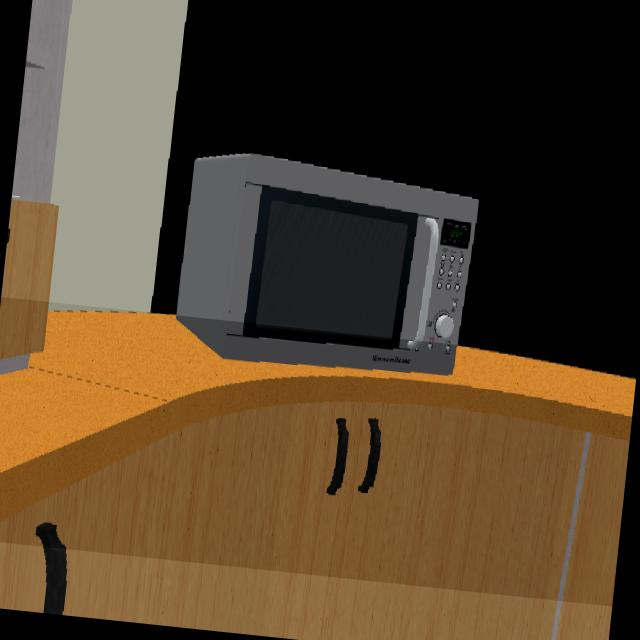countertop: (0, 313, 635, 520)
microwave: (177, 154, 477, 376)
